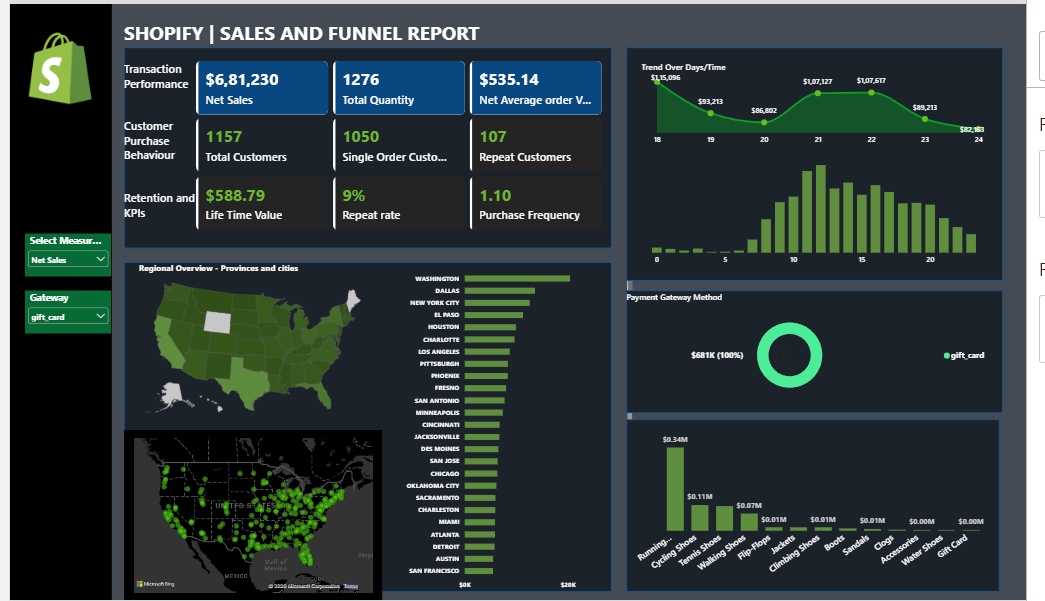

This screenshot's page, from the dashboard's own definition file:
{"tool":"powerbi","page":{"name":"Page 1","canvas":[1700,1000],"ordinal":0},"visuals":[{"type":"shape","box":[0,-8,170,1008],"z":0},{"type":"textbox","box":[192,24,672,72],"z":1000},{"type":"shape","box":[192,72,816,336],"z":2000},{"type":"cardVisual","fields":{"Data":["shopify_sales.Net Sales","shopify_sales.Total Quantity","shopify_sales.Net Average order Value"]},"box":[312,96,680,90],"z":3000},{"type":"textbox","box":[192,96,120,72],"z":4000},{"type":"cardVisual","fields":{"Data":["shopify_sales.Total Customers","shopify_sales.Single Order Customers","shopify_sales.Repeat Customers"]},"box":[312,192,680,90],"z":5000},{"type":"shape","box":[0,0,170,1008],"z":6000},{"type":"cardVisual","fields":{"Data":["shopify_sales.Life Time Value","shopify_sales.Repeat rate","shopify_sales.Purchase Frequency"]},"box":[312,288,680,90],"z":7000},{"type":"textbox","box":[192,312,120,72],"z":8000},{"type":"textbox","box":[192,192,120,96],"z":9000},{"type":"shape","box":[192,432,816,552],"z":10000},{"type":"shapeMap","fields":{"Category":["shopify_sales.Billing Address Province"],"Value":["shopify_sales.Net Sales"]},"box":[192,432,432,288],"z":11000},{"type":"slicer","fields":{"Values":["Select Measures.Select Measures"]},"box":[24,384,144,72],"z":12000},{"type":"map","fields":{"Category":["shopify_sales.NewLocation"]},"box":[192,712,432,288],"z":13000},{"type":"clusteredBarChart","fields":{"Category":["shopify_sales.CITY"],"Y":["shopify_sales.Net Sales"]},"box":[624,424,432,576],"z":14000},{"type":"textbox","box":[216,432,384,48],"z":15000},{"type":"shape","box":[1032,72,630,390],"z":16000},{"type":"areaChart","fields":{"Category":["shopify_sales.Invoice Date.Variation.Date Hierarchy.Day"],"Y":["shopify_sales.Net Sales"]},"box":[1056,96,590,160],"z":17000},{"type":"columnChart","fields":{"Category":["shopify_sales.Hour"],"Y":["shopify_sales.Net Sales"]},"box":[1056,240,600,216],"z":18000},{"type":"textbox","box":[1056,96,168,24],"z":19000},{"type":"shape","box":[1032,480,630,205],"z":20000},{"type":"donutChart","fields":{"Category":["shopify_sales.Gateway"],"Y":["shopify_sales.Net Sales"]},"box":[1032,504,624,168],"z":21000},{"type":"textbox","box":[1032,480,192,24],"z":22000},{"type":"shape","box":[1032,696,624,288],"z":23000},{"type":"columnChart","fields":{"Category":["shopify_sales.Product Type"],"Y":["shopify_sales.Net Sales"]},"box":[1032,696,624,288],"z":24000},{"type":"image","box":[0,48,168,120],"z":25000},{"type":"slicer","fields":{"Values":["shopify_sales.Gateway"]},"box":[24,480,144,72],"z":26000}]}

Visuals, with their boxes on the page's 1700x1000 design canvas (x1, y1, x2, y2). These are canvas units, not pixel positions in the 1045x601 screenshot, which may show the page scaled, cropped or inside an application window:
shape: x1=0 y1=-8 x2=170 y2=1000
textbox: x1=192 y1=24 x2=864 y2=96
shape: x1=192 y1=72 x2=1008 y2=408
cardVisual - shopify_sales.Net Sales x shopify_sales.Total Quantity: x1=312 y1=96 x2=992 y2=186
textbox: x1=192 y1=96 x2=312 y2=168
cardVisual - shopify_sales.Total Customers x shopify_sales.Single Order Customers: x1=312 y1=192 x2=992 y2=282
shape: x1=0 y1=0 x2=170 y2=1008
cardVisual - shopify_sales.Life Time Value x shopify_sales.Repeat rate: x1=312 y1=288 x2=992 y2=378
textbox: x1=192 y1=312 x2=312 y2=384
textbox: x1=192 y1=192 x2=312 y2=288
shape: x1=192 y1=432 x2=1008 y2=984
shapeMap - shopify_sales.Billing Address Province x shopify_sales.Net Sales: x1=192 y1=432 x2=624 y2=720
slicer - Select Measures.Select Measures: x1=24 y1=384 x2=168 y2=456
map - shopify_sales.NewLocation: x1=192 y1=712 x2=624 y2=1000
clusteredBarChart - shopify_sales.CITY x shopify_sales.Net Sales: x1=624 y1=424 x2=1056 y2=1000
textbox: x1=216 y1=432 x2=600 y2=480
shape: x1=1032 y1=72 x2=1662 y2=462
areaChart - shopify_sales.Invoice Date.Variation.Date Hierarchy.Day x shopify_sales.Net Sales: x1=1056 y1=96 x2=1646 y2=256
columnChart - shopify_sales.Hour x shopify_sales.Net Sales: x1=1056 y1=240 x2=1656 y2=456
textbox: x1=1056 y1=96 x2=1224 y2=120
shape: x1=1032 y1=480 x2=1662 y2=685
donutChart - shopify_sales.Gateway x shopify_sales.Net Sales: x1=1032 y1=504 x2=1656 y2=672
textbox: x1=1032 y1=480 x2=1224 y2=504
shape: x1=1032 y1=696 x2=1656 y2=984
columnChart - shopify_sales.Product Type x shopify_sales.Net Sales: x1=1032 y1=696 x2=1656 y2=984
image: x1=0 y1=48 x2=168 y2=168
slicer - shopify_sales.Gateway: x1=24 y1=480 x2=168 y2=552
